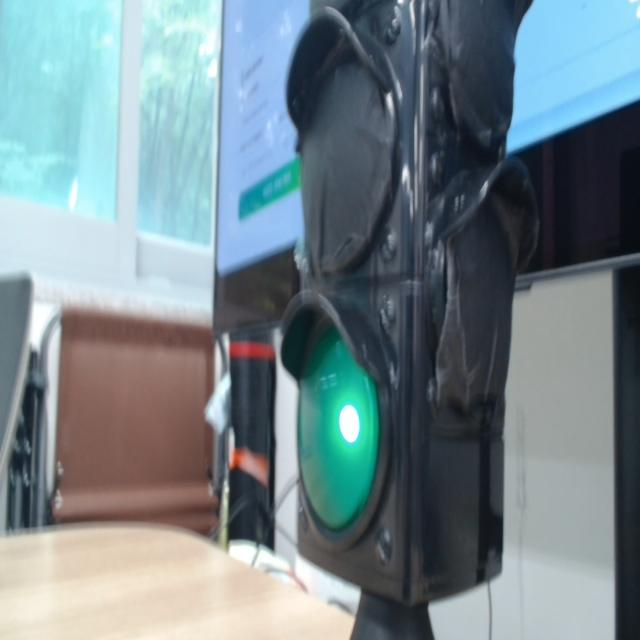green_light: (299, 328, 379, 530), (339, 405, 359, 443)
